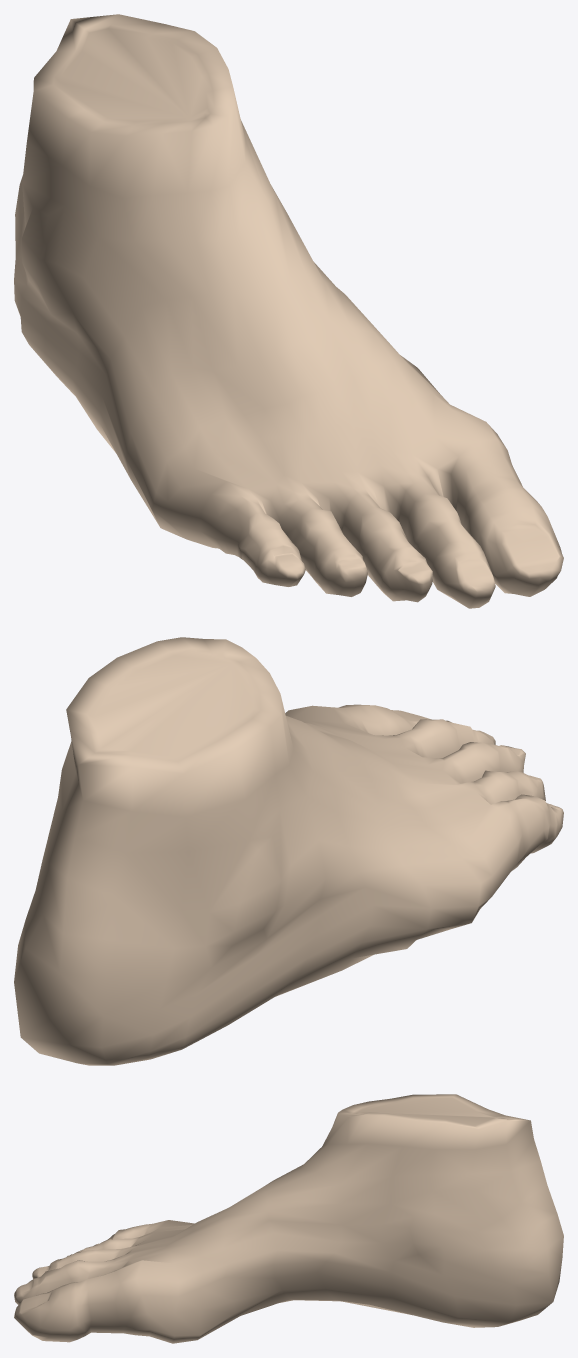
The model's file is FootR.fbx.
3 views of the same model, one above another, from view 1: azimuth 30°, elevation 25°; view 2: azimuth 150°, elevation 25°; view 3: azimuth 270°, elevation 25° (orthographic). The views are drawn at different scales.
Parts seen in each view (by area): view 1: FootR; view 2: FootR; view 3: FootR.
Part boxes in pixels (x1,y1,x2,y2): FootR: (14, 14, 563, 608); FootR: (14, 637, 563, 1065); FootR: (14, 1094, 563, 1343).
Size of the model in its own units: 90.24 by 104 by 240.
